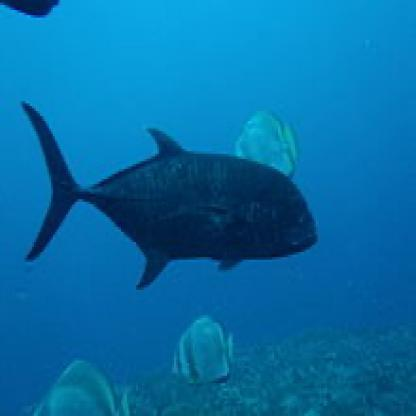Bio: (17, 94, 318, 298), (168, 305, 238, 386)
